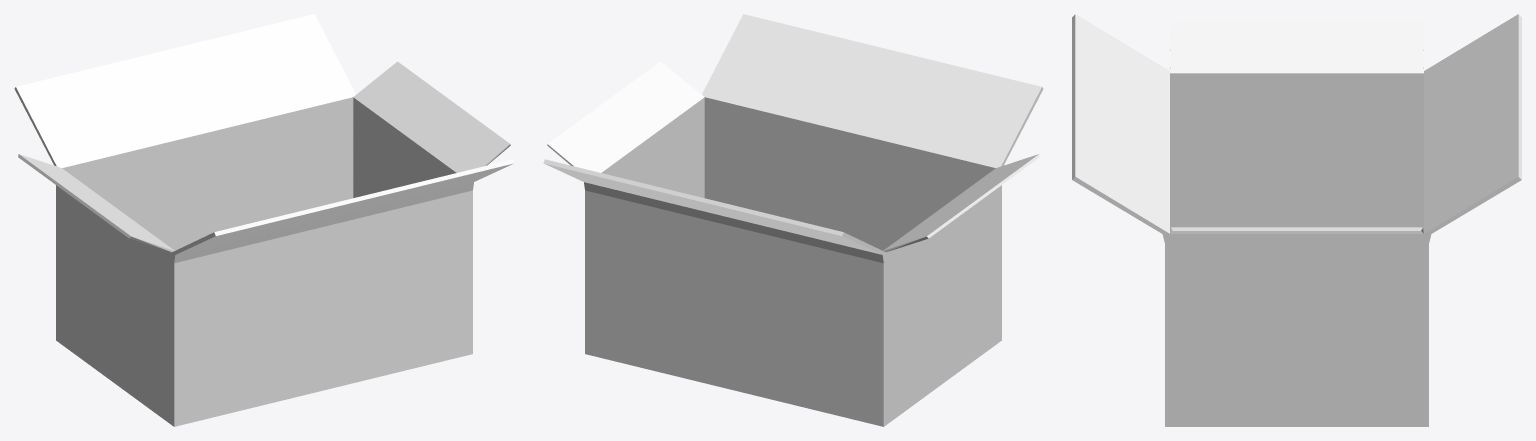
The model's file is Prop_Cardboard_Box_02.glb.
The picture shows the model from 3 angles, left to right: view 1: azimuth 30°, elevation 25°; view 2: azimuth 150°, elevation 25°; view 3: azimuth 270°, elevation 25°; orthographic projection. The views are drawn at different scales.
Visible parts, largest first — view 1: Prop_Cardboard Box_02; view 2: Prop_Cardboard Box_02; view 3: Prop_Cardboard Box_02.
Part boxes in pixels (x1,y1,x2,y2): Prop_Cardboard Box_02: (14, 14, 514, 426); Prop_Cardboard Box_02: (543, 14, 1043, 426); Prop_Cardboard Box_02: (1072, 14, 1521, 426).
Bounding box in the file's own units: 0.9322 × 0.5235 × 0.8526.
Materials: 1 (1 with a texture image).
